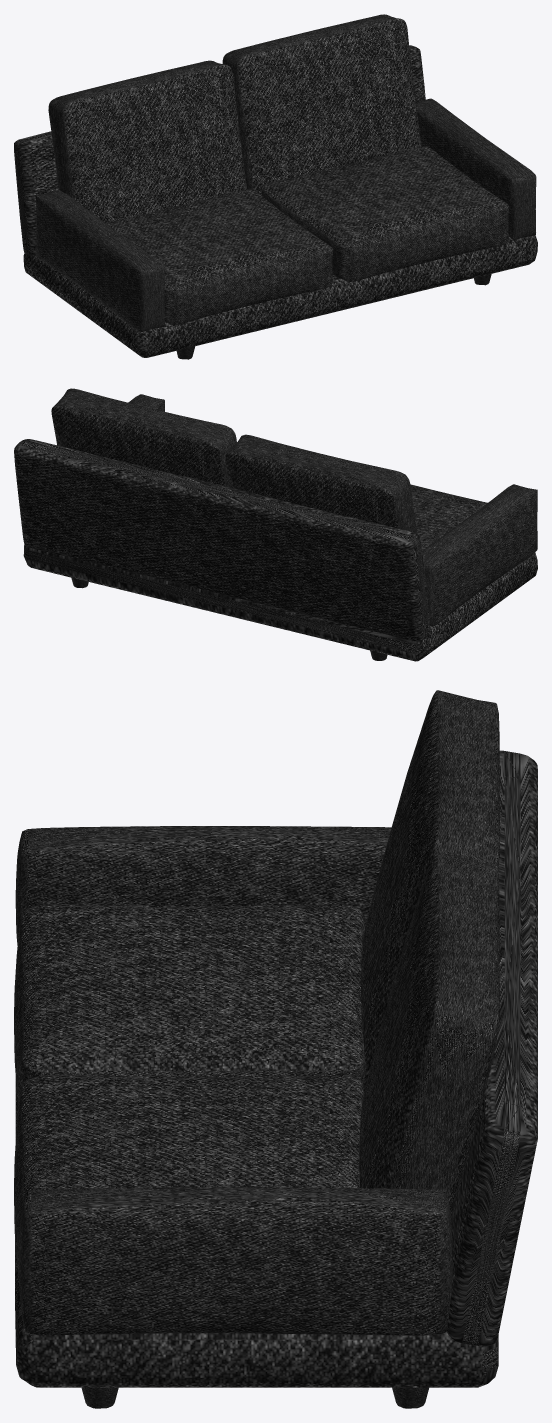
3 renders of one model, top to bottom at view 1: azimuth 30°, elevation 25°; view 2: azimuth 150°, elevation 25°; view 3: azimuth 270°, elevation 25°, orthographic. The views are drawn at different scales.
Visible parts, largest first — view 1: Box259, Box262, Box263, Box258, ChamferBox018, Box261, Box260, ChamferBox019; view 2: ChamferBox019, ChamferBox018, Box259, Box262, Box261, Box258, Box260; view 3: Box260, Box258, Box263, Box259, Box261, ChamferBox019, ChamferBox018, Box262.
Part boxes in pixels (x1=…): Box259: x1=222, y1=14, x2=421, y2=195; Box262: x1=48, y1=60, x2=246, y2=222; Box263: x1=261, y1=146, x2=509, y2=281; Box258: x1=105, y1=189, x2=332, y2=324; ChamferBox018: x1=23, y1=235, x2=537, y2=357; Box261: x1=36, y1=190, x2=164, y2=331; Box260: x1=416, y1=98, x2=536, y2=240; ChamferBox019: x1=14, y1=45, x2=425, y2=255; ChamferBox019: x1=14, y1=439, x2=430, y2=641; ChamferBox018: x1=23, y1=544, x2=537, y2=661; Box259: x1=51, y1=388, x2=236, y2=487; Box262: x1=225, y1=434, x2=416, y2=533; Box261: x1=422, y1=484, x2=537, y2=626; Box258: x1=410, y1=484, x2=487, y2=550; Box260: x1=128, y1=394, x2=164, y2=411; Box260: x1=19, y1=1187, x2=452, y2=1335; Box258: x1=14, y1=904, x2=365, y2=1107; Box263: x1=14, y1=1075, x2=363, y2=1284; Box259: x1=359, y1=852, x2=499, y2=1217; Box261: x1=15, y1=826, x2=391, y2=945; ChamferBox019: x1=446, y1=750, x2=537, y2=1345; ChamferBox018: x1=15, y1=1078, x2=498, y2=1387; Box262: x1=360, y1=690, x2=499, y2=1091.
Size of the model in its own units: 75.18 by 36 by 42.39.
1 material, 1 textured.
